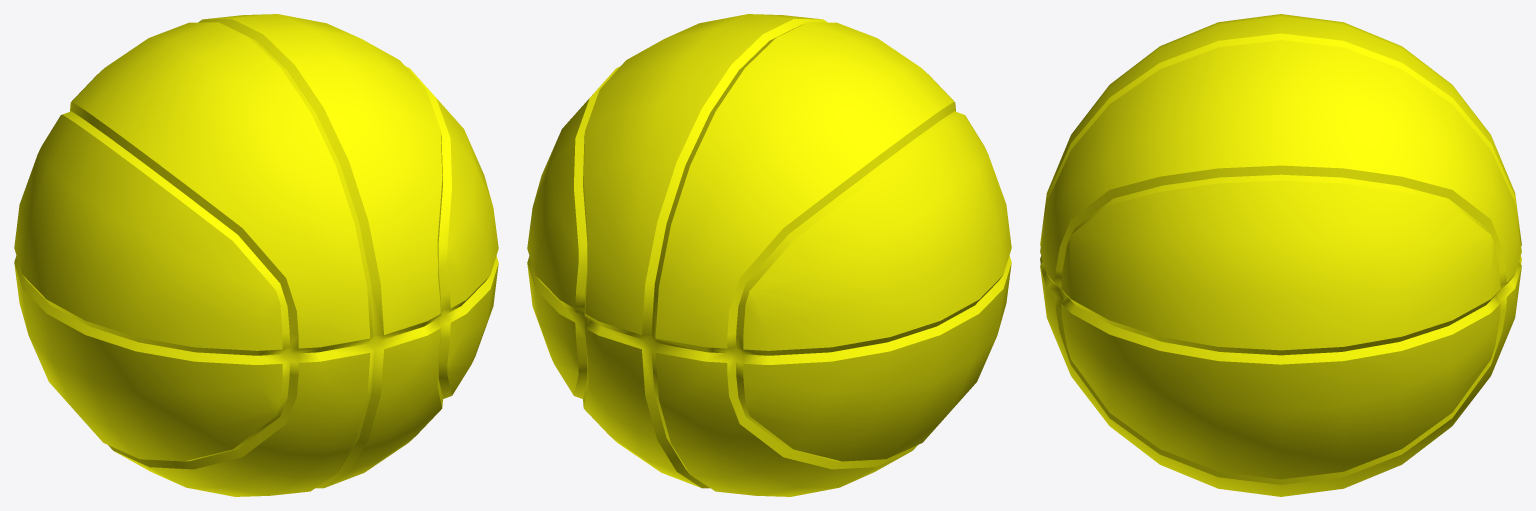
Rendered from kaykit-basketball.glb.
The picture shows the model from 3 angles, left to right: view 1: azimuth 30°, elevation 25°; view 2: azimuth 150°, elevation 25°; view 3: azimuth 270°, elevation 25°; orthographic projection.
Visible parts, largest first — view 1: basketball; view 2: basketball; view 3: basketball.
Boxes of the visible parts, x1,y1,x2,y2 form: basketball: (14,14,498,496); basketball: (527,14,1011,496); basketball: (1040,14,1521,496).
Bounding box in the file's own units: 0.7383 × 0.7383 × 0.737.
